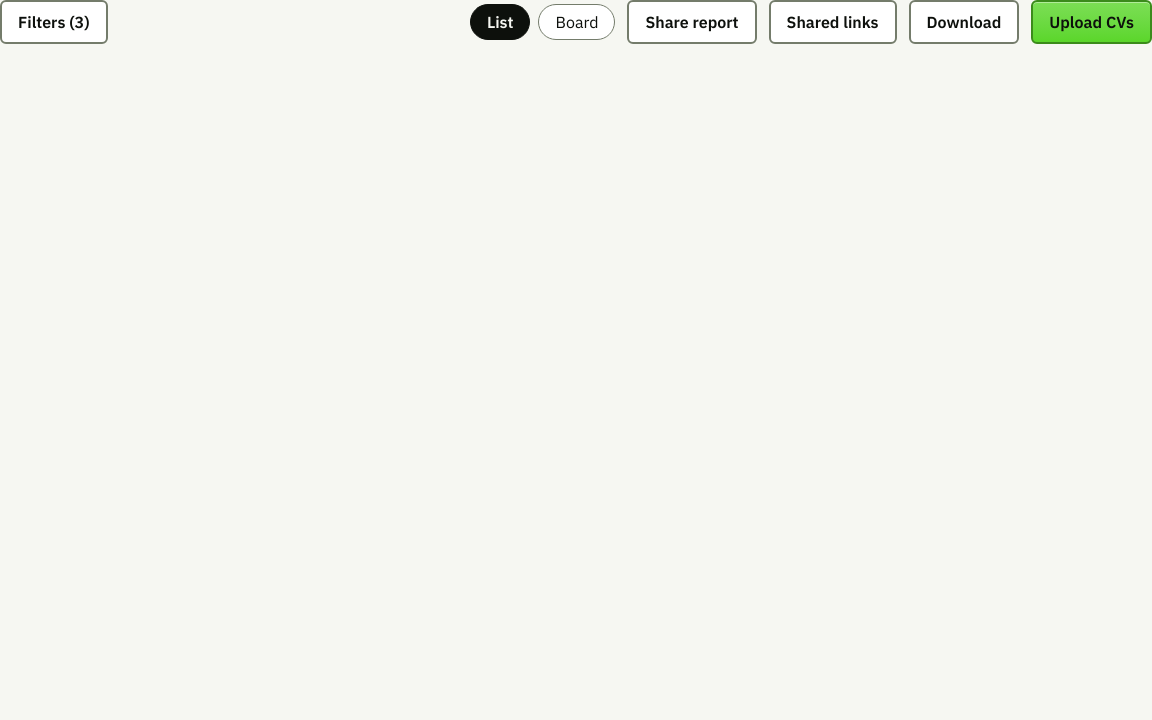
Scenario: candidate filters › the popup starts from the filters in the address
This screenshot has width=1152, height=720.
Click the button "Filters (3)". click: (54, 22)
box: top-left (0, 0), bottom-right (108, 44)
(page scrolled)
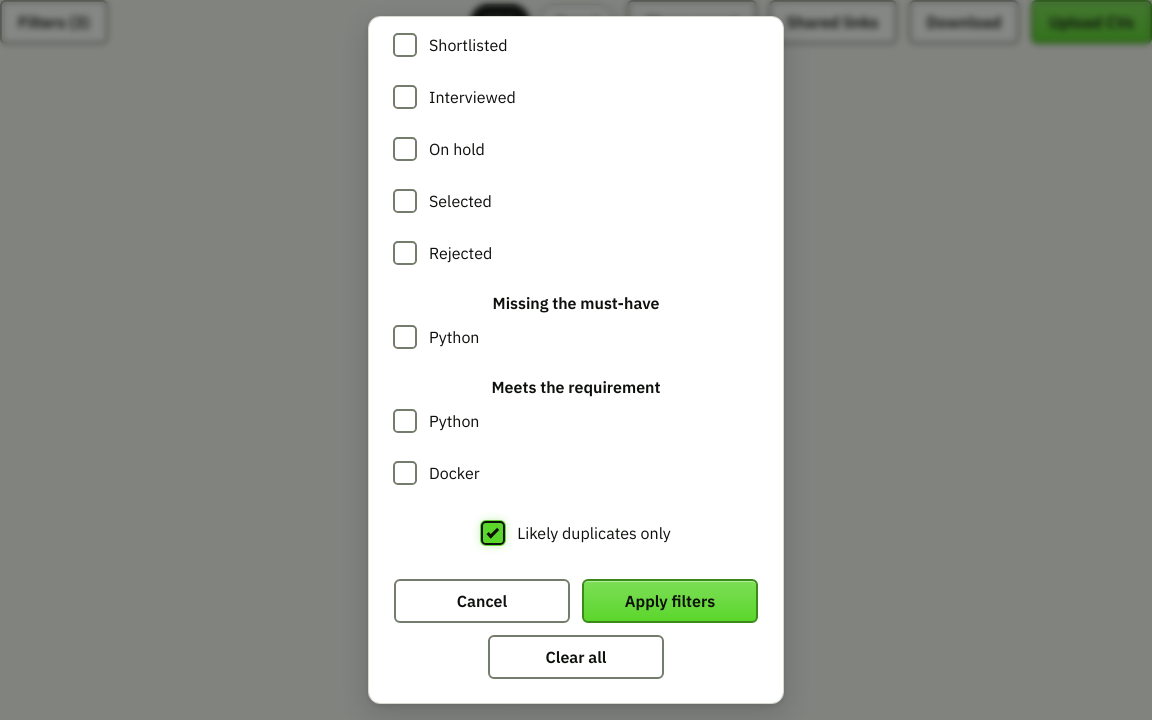
Expected: the checkbox labelled "Likely duplicates only" is checked, top-left (481, 521), bottom-right (505, 545)
